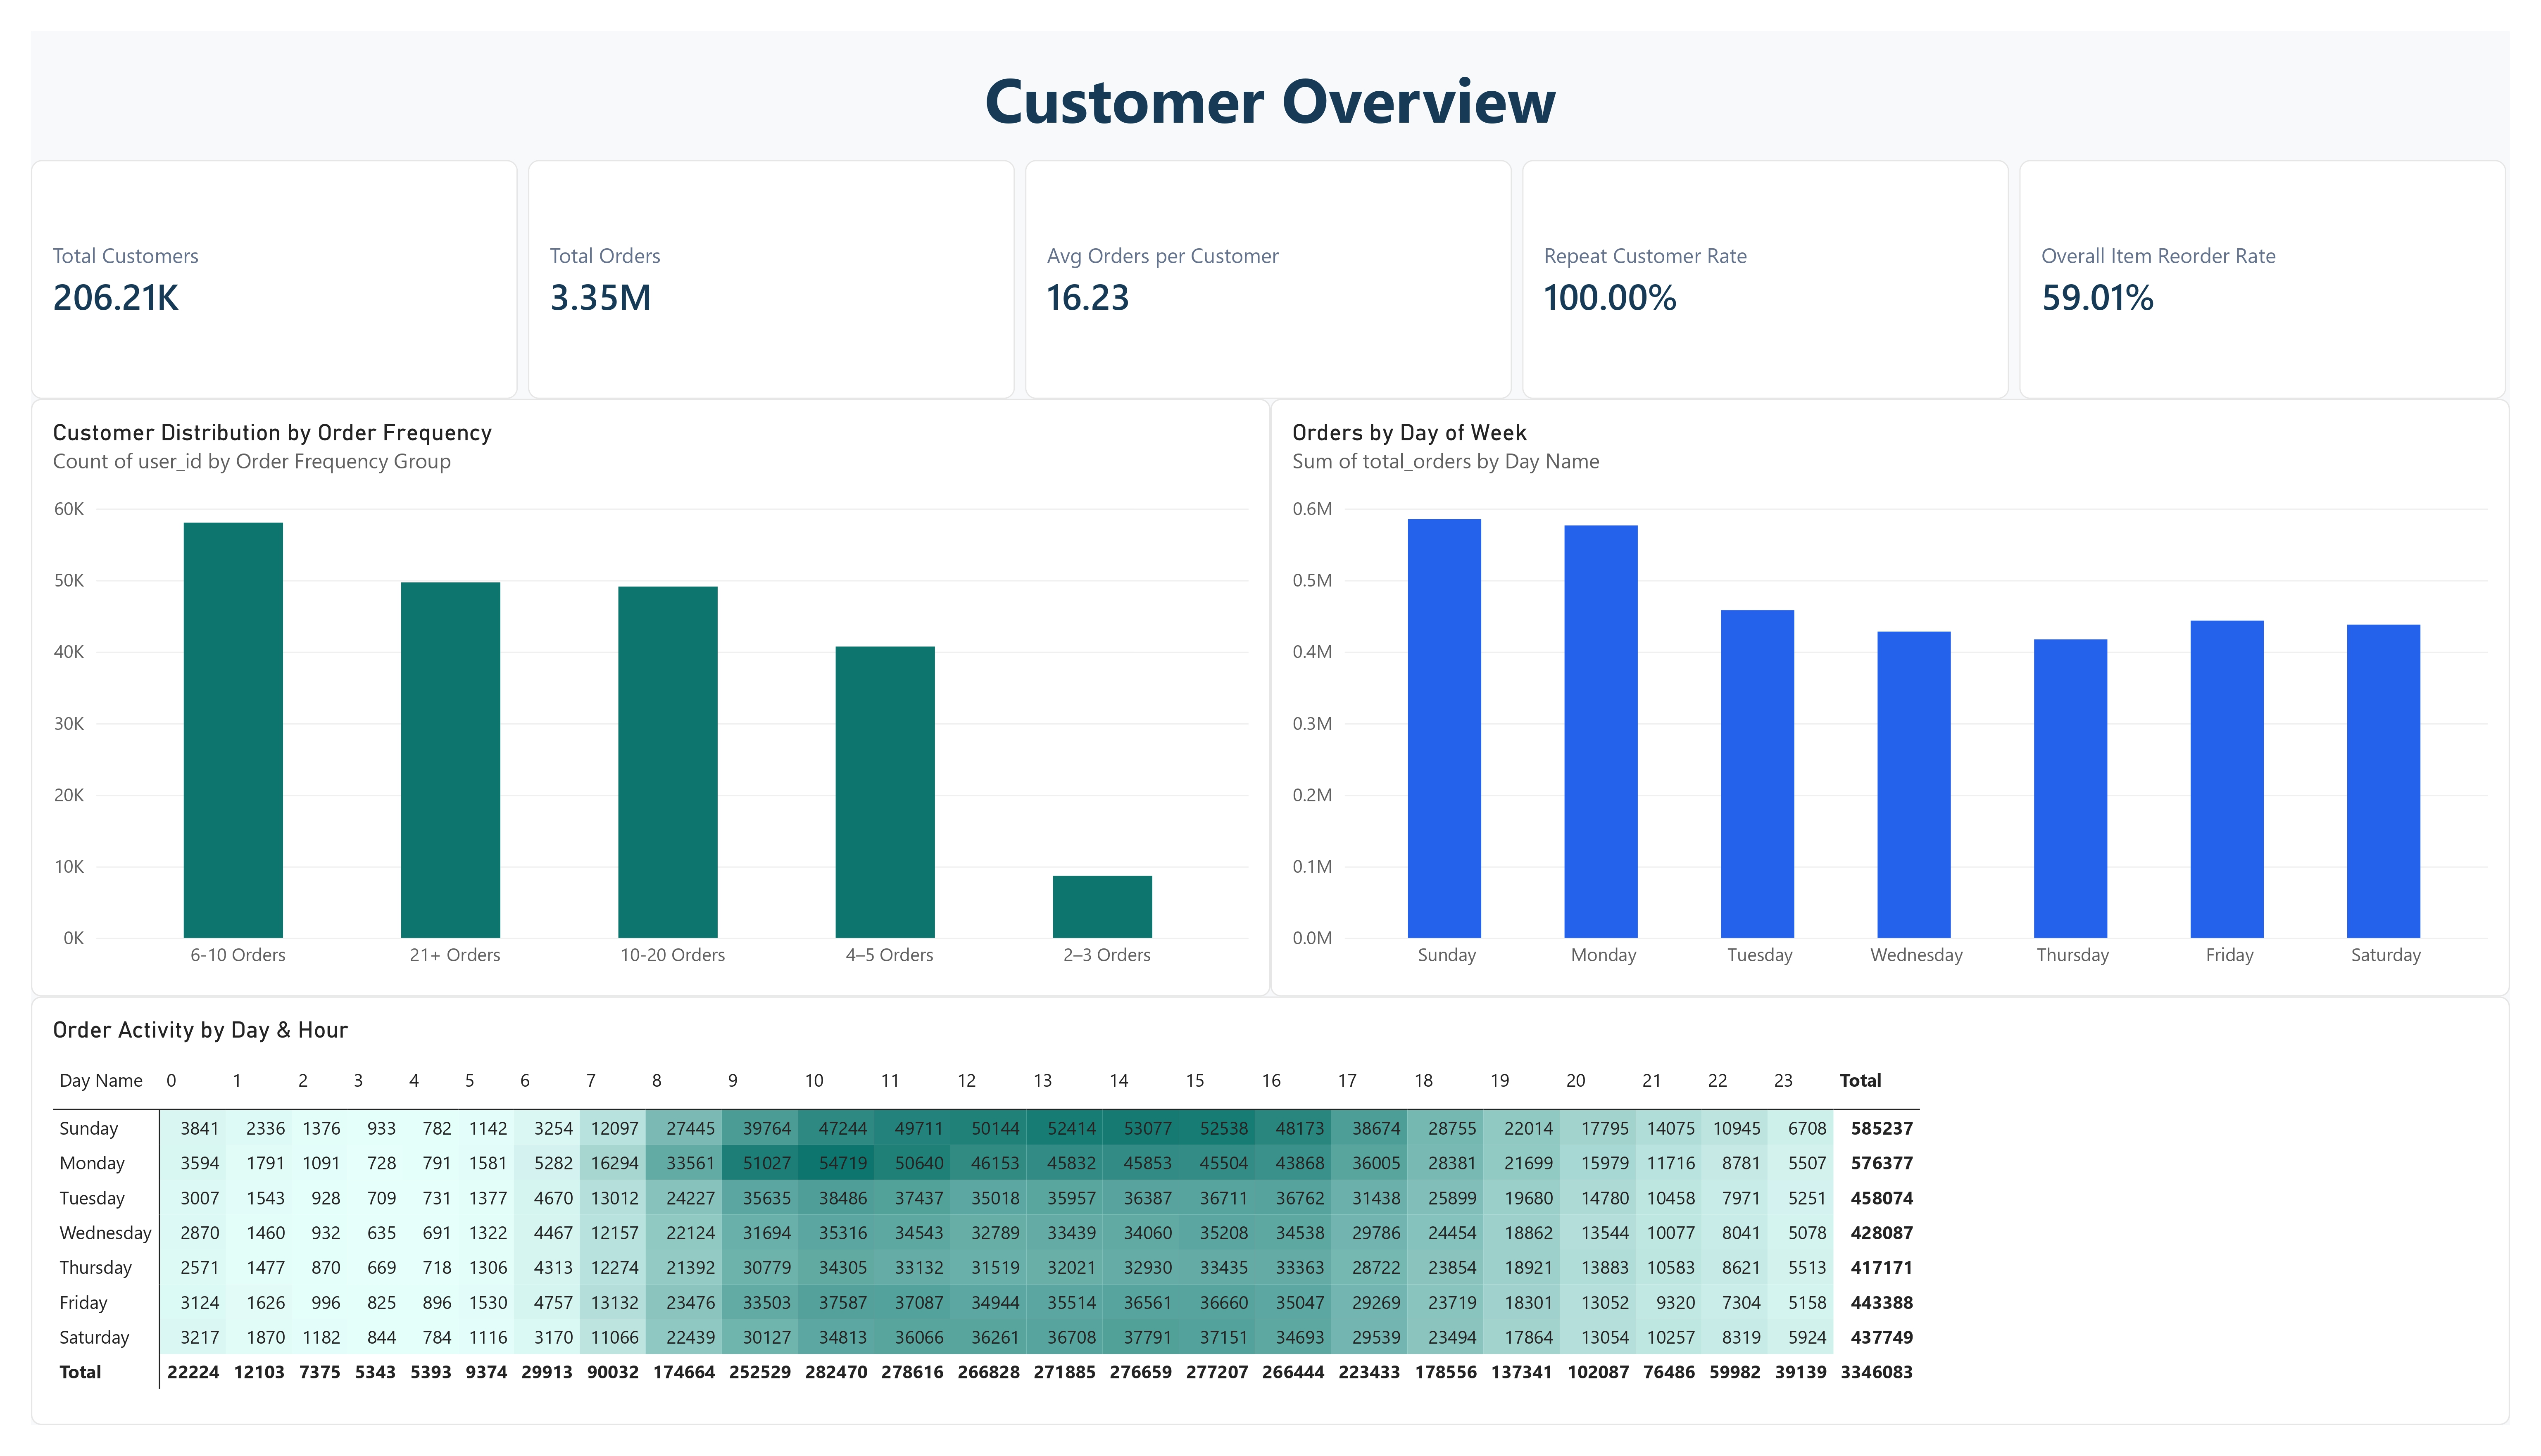

The page's visual inventory and layout, read from the dashboard file:
{"tool":"powerbi","page":{"name":"Customer Overview","canvas":[1920,1080],"ordinal":0},"visuals":[{"type":"cardVisual","fields":{"Data":["AislePerformance.Total Customers","AislePerformance.Total Orders","AislePerformance.Avg Orders per Customer","AislePerformance.Repeat Customer Rate","AislePerformance.Overall Item Reorder Rate"]},"box":[0,100,1920,185],"z":0},{"type":"clusteredColumnChart","title":"Customer Distribution by Order Frequency","fields":{"Category":["CustomerBehavior.Order Frequency Group"],"Y":["CountNonNull(CustomerBehavior.user_id)"]},"box":[0,285,960,462.5],"z":1000},{"type":"pivotTable","title":"Order Activity by Day & Hour","fields":{"Columns":["OrderTiming.order_hour_of_day"],"Rows":["OrderTiming.Day Name"],"Values":["Sum(OrderTiming.total_orders)"]},"box":[0,747.5,1920,332.5],"z":2000},{"type":"columnChart","title":"Orders by Day of Week","fields":{"Category":["OrderTiming.Day Name"],"Y":["Sum(OrderTiming.total_orders)"]},"box":[960,285,960,462.5],"z":3000},{"type":"textbox","box":[0,0,1920,100],"z":4000}]}

Visuals, with their boxes on the page's 1920x1080 design canvas (x1, y1, x2, y2). These are canvas units, not pixel positions in the 2541x1456 screenshot, which may show the page scaled, cropped or inside an application window:
cardVisual - AislePerformance.Total Customers x AislePerformance.Total Orders: <box>0,100,1920,285</box>
"Customer Distribution by Order Frequency" clusteredColumnChart: <box>0,285,960,748</box>
"Order Activity by Day & Hour" pivotTable: <box>0,748,1920,1080</box>
"Orders by Day of Week" columnChart: <box>960,285,1920,748</box>
textbox: <box>0,0,1920,100</box>
